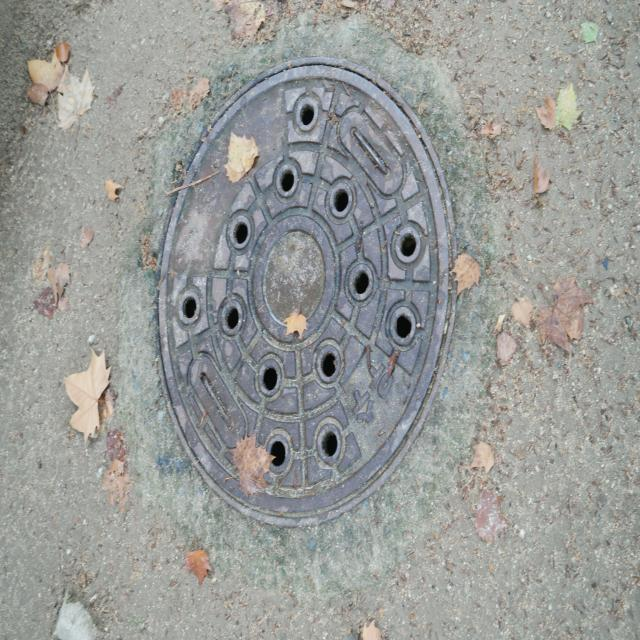manhole: (159, 58, 455, 526)
